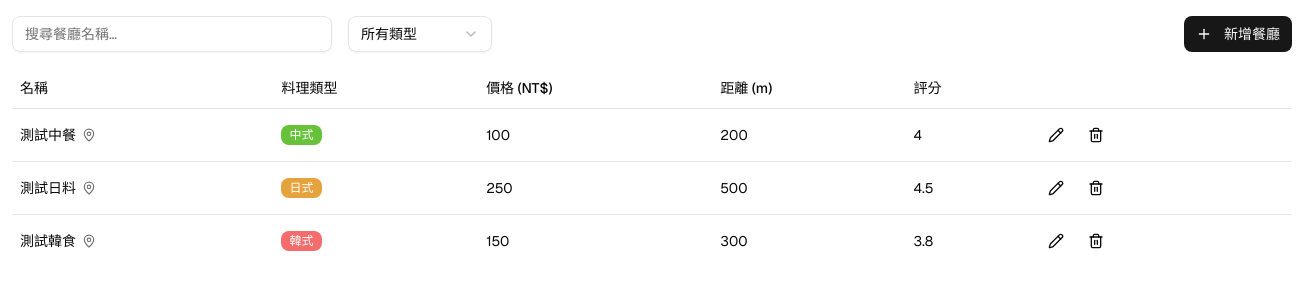
it: RestaurantListPanel (admin CRUD) › edit mode: save with invalid data shows errors
Step 1. Click the button named "編輯" in the row of "測試中餐" → (1056, 134), box [1038,116,1074,152]
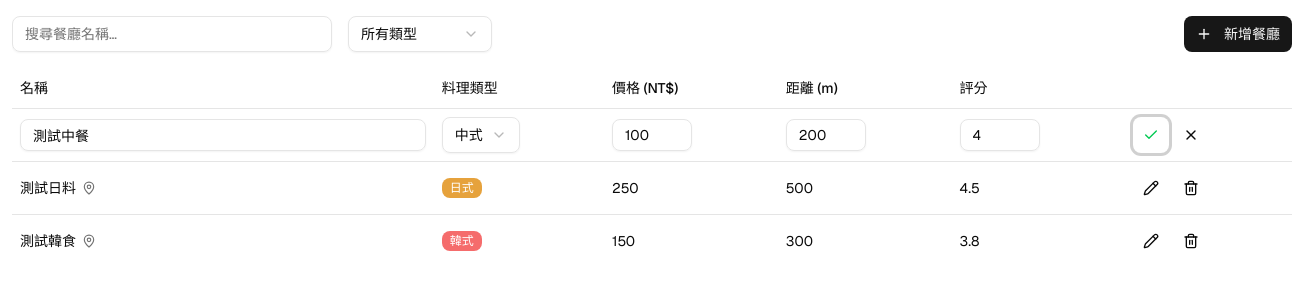
Step 2. Replace the text in the number field named "編輯價格" with "-5" → (652, 134), box [612,118,692,150]
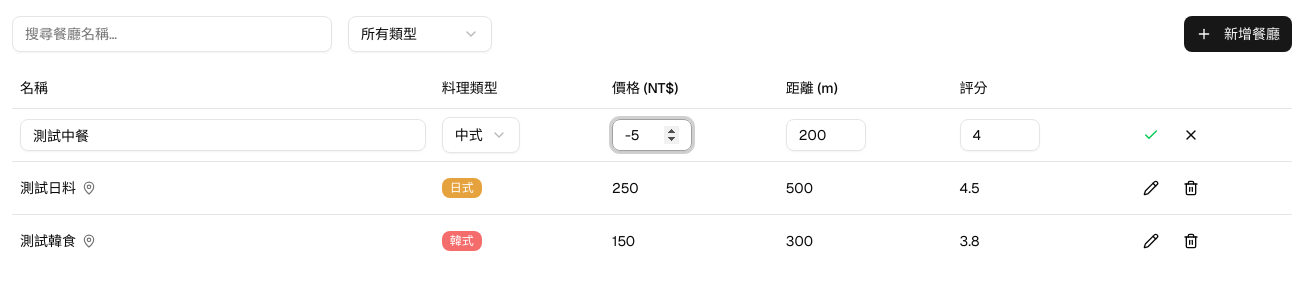
Step 3. Click the button named "儲存編輯" → (1151, 134), box [1133,116,1169,152]
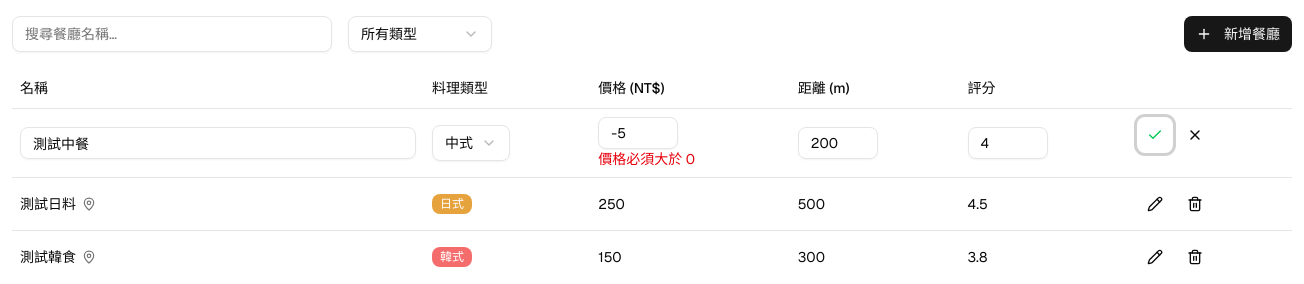
Now the text "價格必須大於 0" is shown, box [598,150,695,168]
